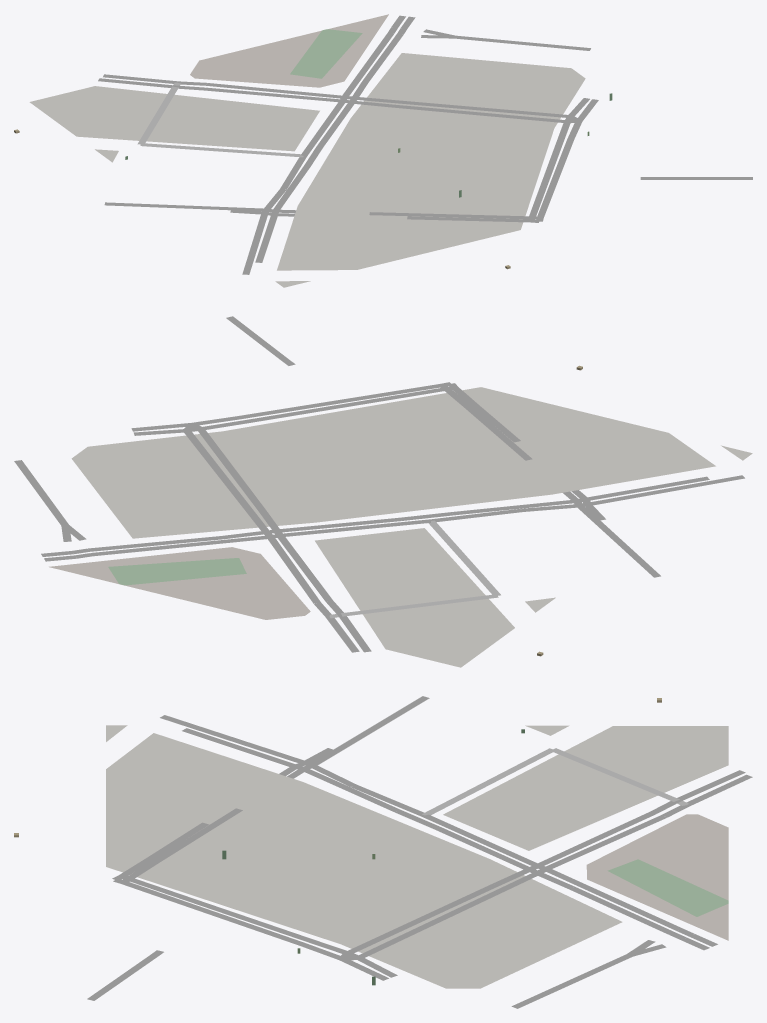
The picture shows the model from 3 angles, top to bottom: view 1: azimuth 30°, elevation 25°; view 2: azimuth 150°, elevation 25°; view 3: azimuth 270°, elevation 25°; orthographic projection. The views are drawn at different scales.
Bounding box in the file's own units: 596 × 9.27 × 594.
